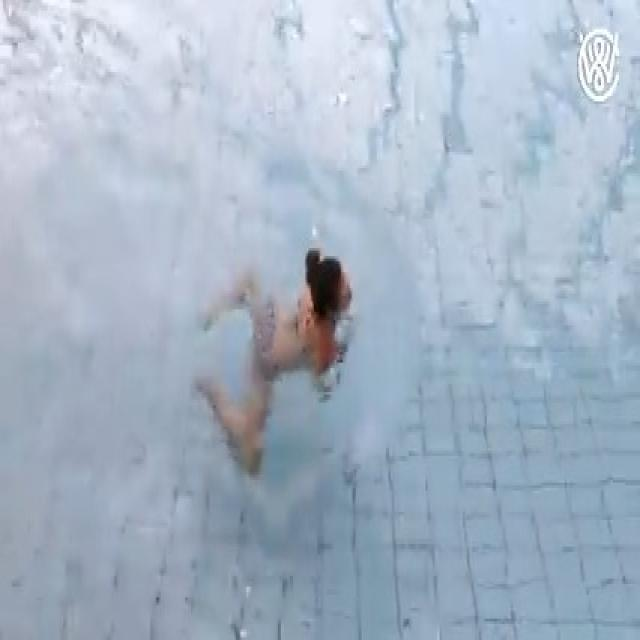Swimming: (198, 253, 355, 471)
